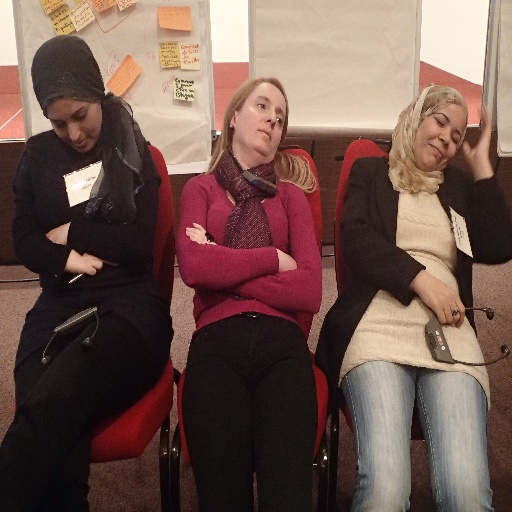hand: (421, 273, 468, 333), (462, 97, 493, 169), (184, 220, 216, 246), (78, 251, 104, 275), (45, 223, 67, 246), (282, 251, 297, 272)
